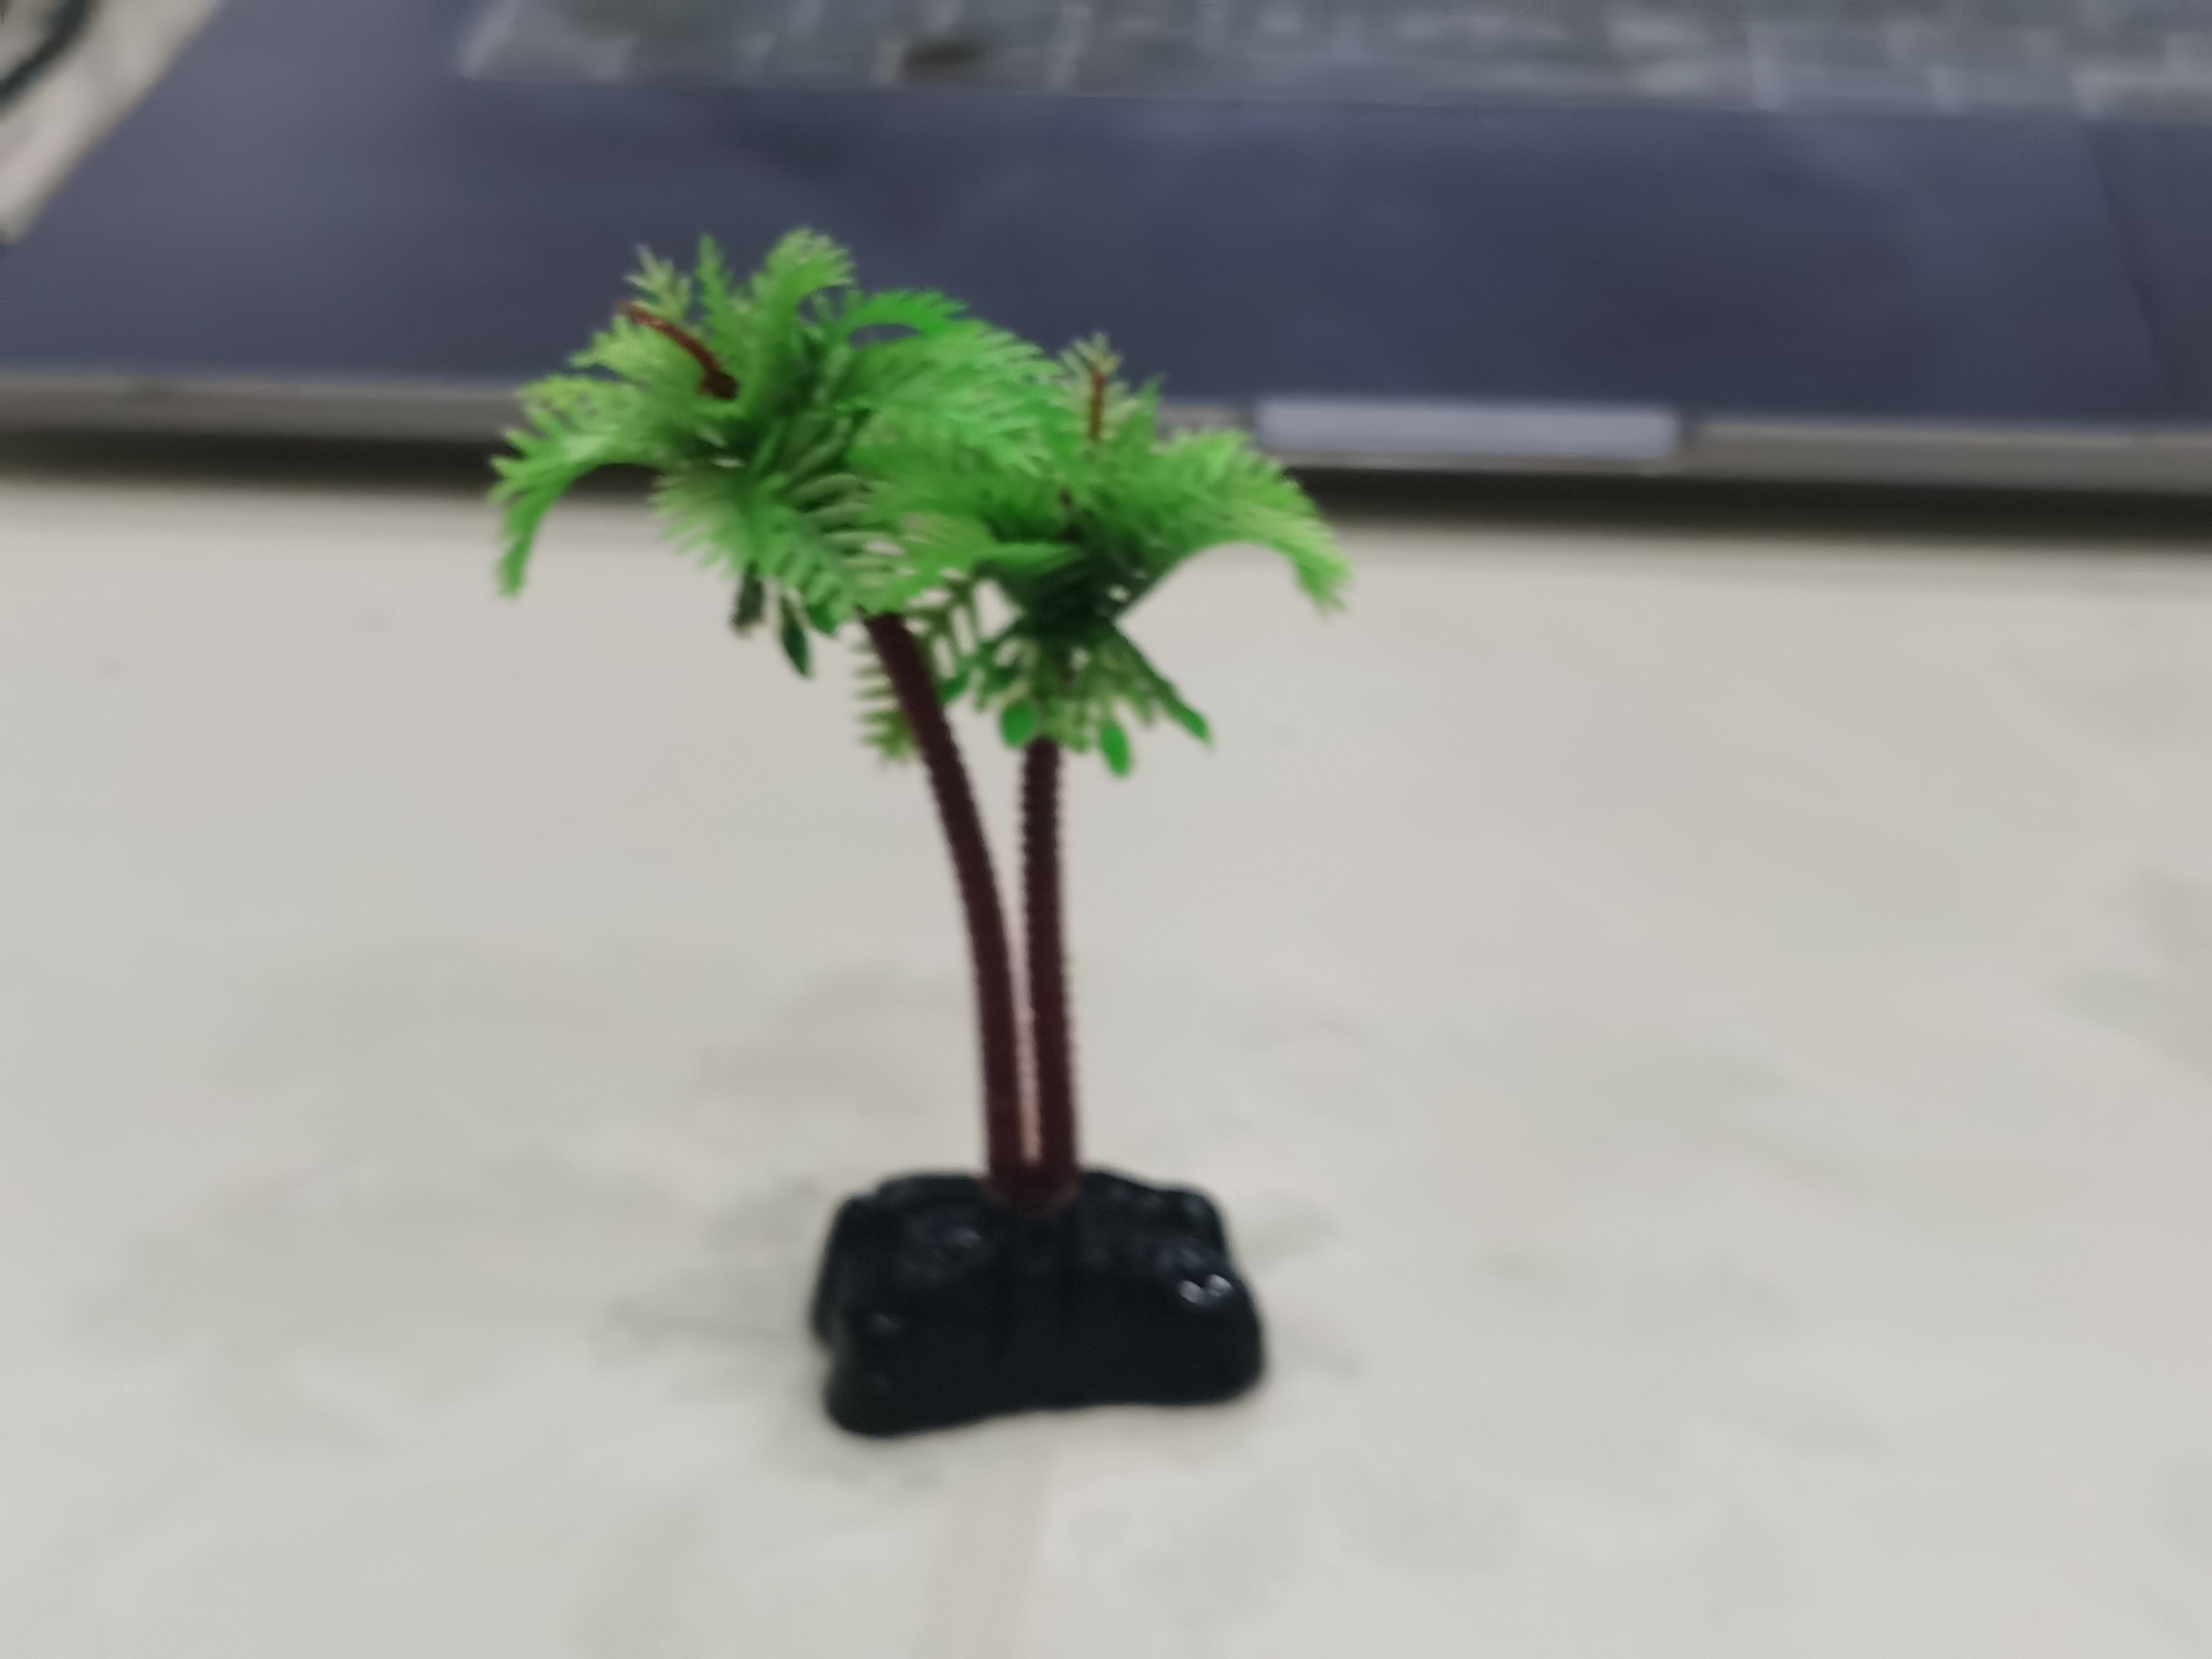corn: (467, 225, 1359, 1448)
